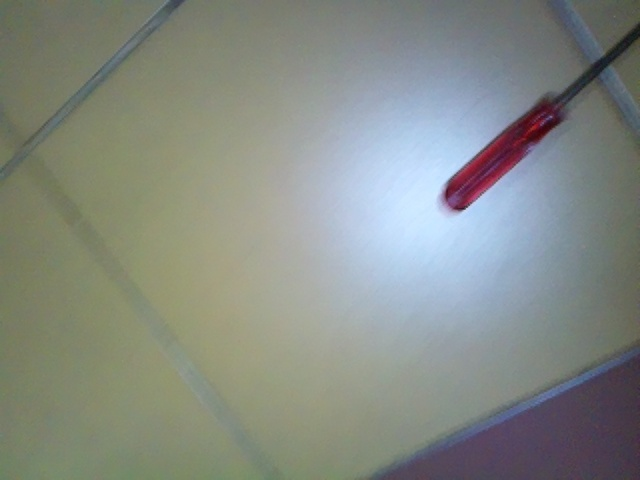redskrew: (440, 20, 637, 217)
